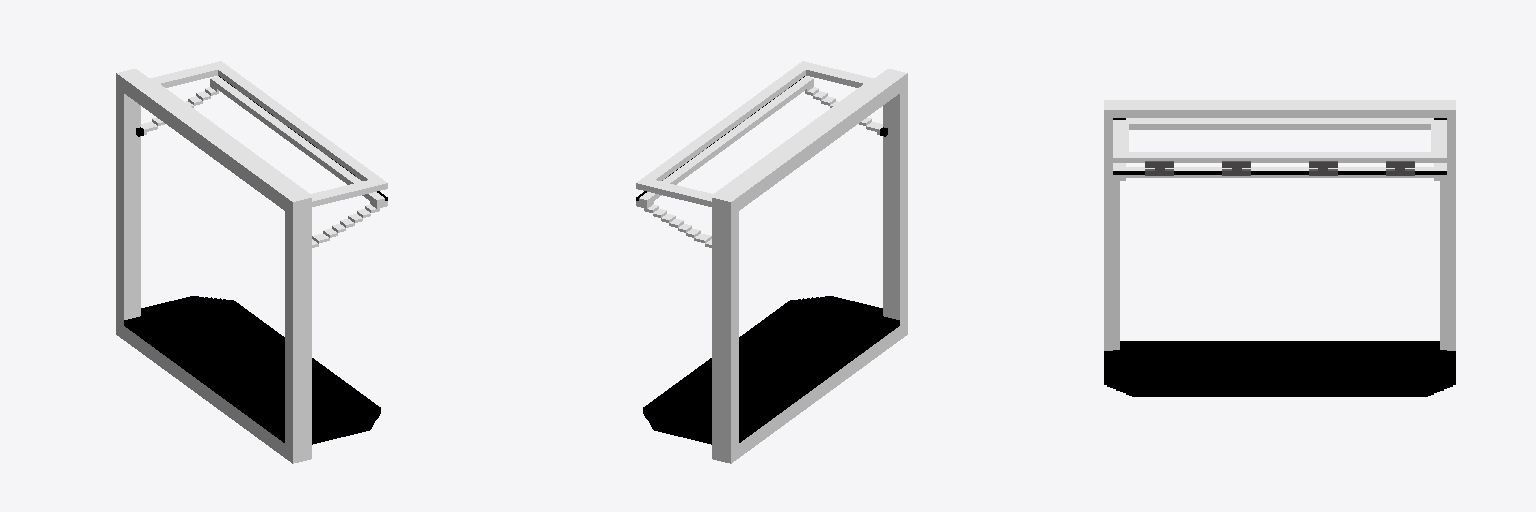
3 renders of one model, left to right at view 1: azimuth 30°, elevation 25°; view 2: azimuth 150°, elevation 25°; view 3: azimuth 270°, elevation 25°, orthographic.
Visible parts, largest first — view 1: object 1; view 2: object 1; view 3: object 1.
Part boxes in pixels (bbox=[...]): object 1: bbox=[116, 61, 387, 463]; object 1: bbox=[636, 61, 907, 463]; object 1: bbox=[1104, 100, 1455, 396].
Bounding box in the file's own units: 3.7 × 9 × 11.
Materials: 1 (1 with a texture image).